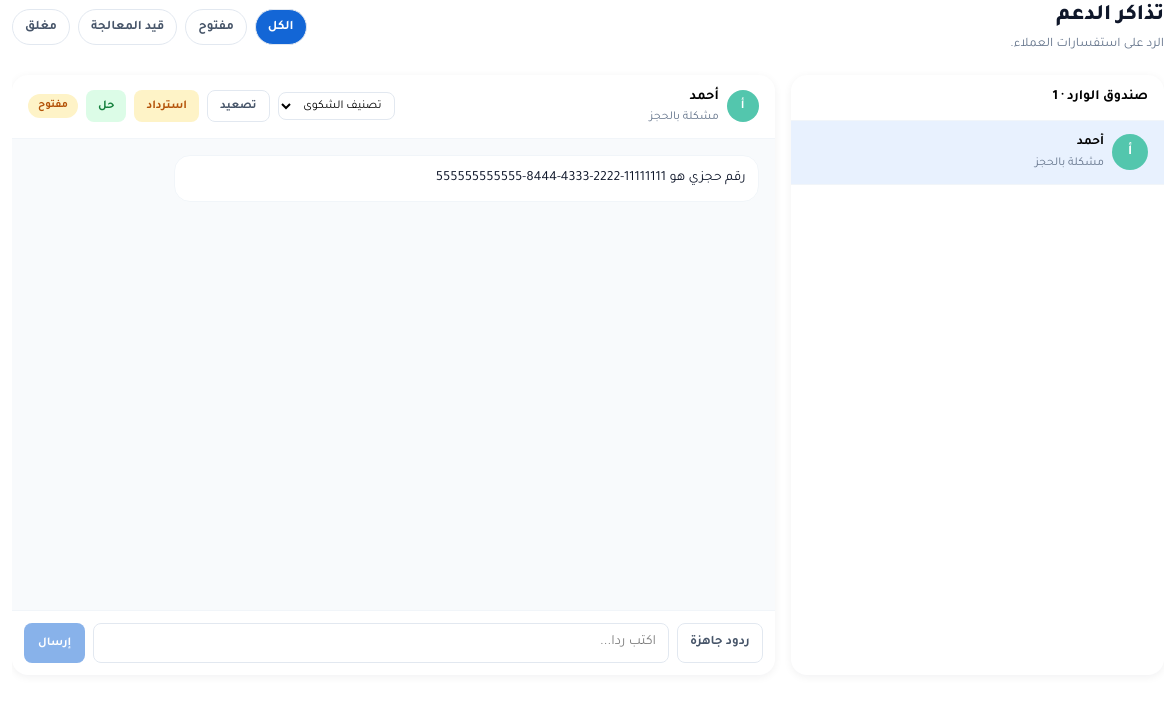
Support page (refund booking-id auto-extract) › clears the auto-fill warning once the admin edits the bookingId
expect the text "أحمد" below "صندوق الوارد ·" is shown: met, box 1077,136 -> 1104,148
Click the button "استرداد" at {"x": 167, "y": 106}, box 134,90 -> 199,122
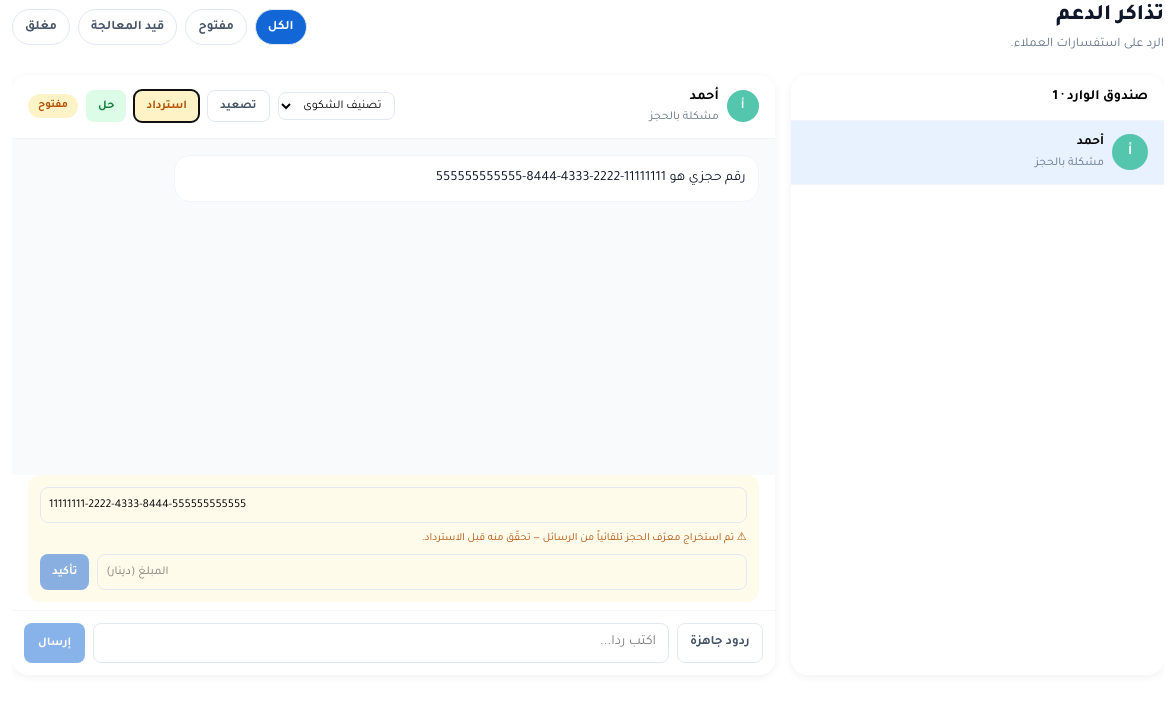
expect the field with placeholder "معرّف الحجز" holds "11111111-2222-4333-8444-555555555555": met
expect the text with test id "refund-autofill-warning" is shown: met, box 422,533 -> 747,544
Note: Admin edits the field → it's no longer "auto-filled untouched".
Type "X" into the field with placeholder "معرّف الحجز" at {"x": 393, "y": 505}, box 40,487 -> 747,523
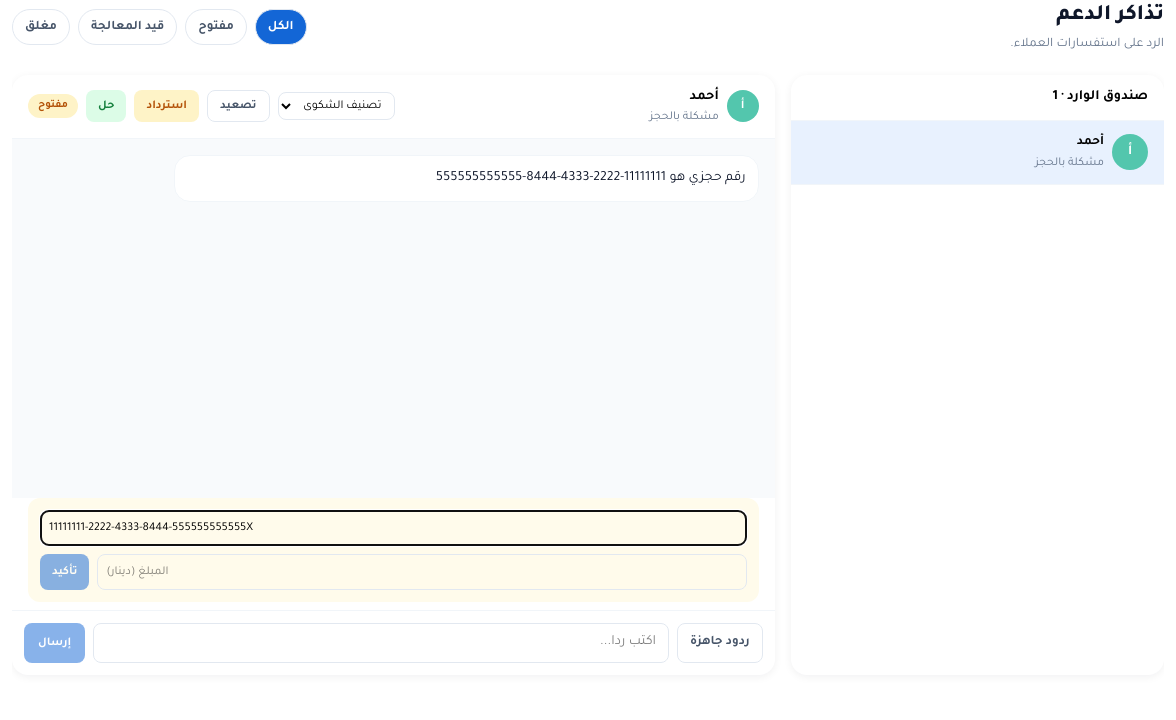
expect the text with test id "refund-autofill-warning" is gone: met
